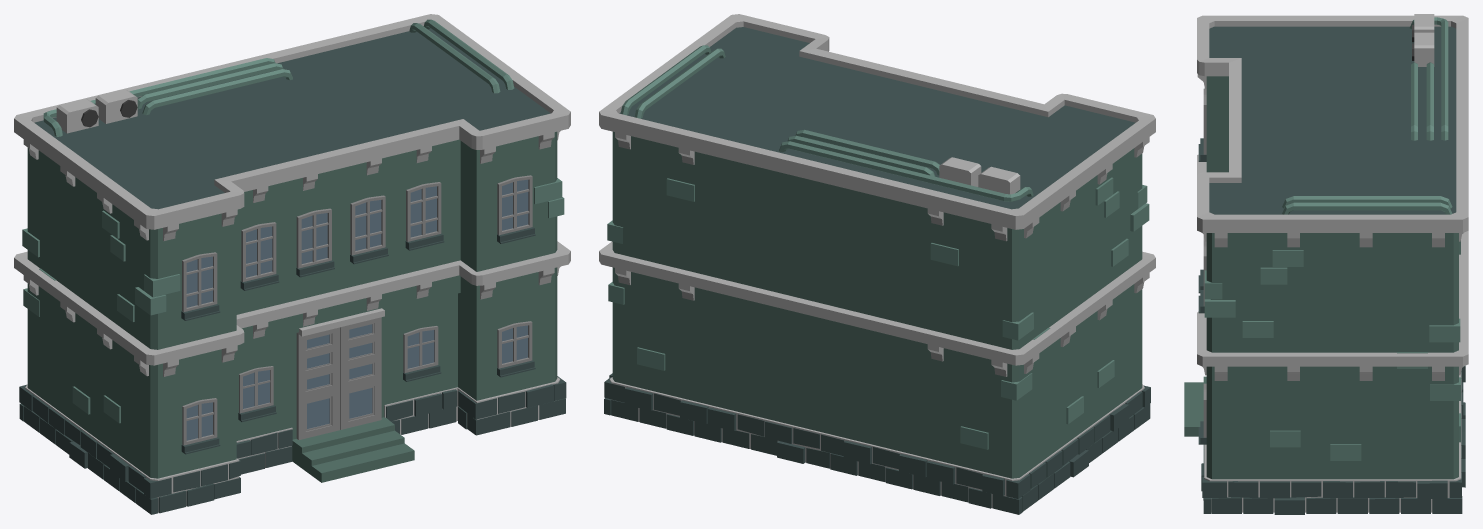
The model's file is 2Story_Wide_Mat.glb.
3 views of the same model, side by side, from view 1: azimuth 30°, elevation 25°; view 2: azimuth 150°, elevation 25°; view 3: azimuth 270°, elevation 25° (orthographic).
Visible parts, largest first — view 1: 2Story_Wide_Mat; view 2: 2Story_Wide_Mat; view 3: 2Story_Wide_Mat.
Part boxes in pixels (bbox=[...]): 2Story_Wide_Mat: bbox=[14, 14, 570, 514]; 2Story_Wide_Mat: bbox=[599, 14, 1155, 514]; 2Story_Wide_Mat: bbox=[1184, 14, 1468, 514].
Bounding box in the file's own units: 3.83 × 2.75 × 2.26.
